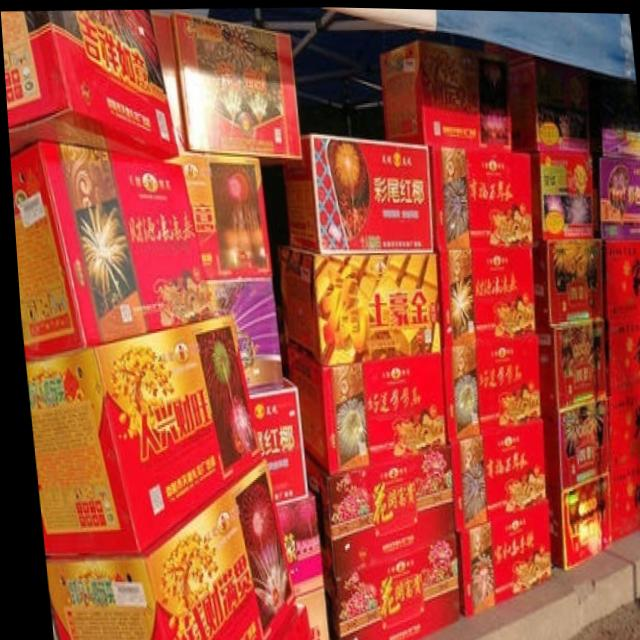box: (21, 313, 255, 555), (39, 457, 288, 640), (8, 139, 209, 361), (1, 8, 175, 158), (282, 345, 439, 473), (273, 243, 436, 365), (299, 442, 447, 575), (170, 12, 299, 164), (280, 133, 430, 252), (316, 533, 452, 640), (378, 38, 509, 148), (164, 152, 268, 277), (448, 496, 543, 617), (441, 414, 539, 530), (484, 39, 586, 148), (436, 331, 535, 440), (428, 144, 529, 248), (432, 240, 532, 344), (204, 274, 278, 386), (242, 374, 302, 505), (540, 468, 604, 567), (535, 393, 602, 486), (530, 235, 599, 323), (533, 318, 601, 406), (530, 149, 591, 235), (271, 491, 316, 595), (151, 12, 184, 150), (590, 153, 640, 236), (601, 382, 640, 466), (602, 455, 640, 539), (598, 237, 640, 312), (599, 311, 640, 387), (260, 603, 303, 640), (288, 589, 319, 640), (601, 126, 640, 154)
